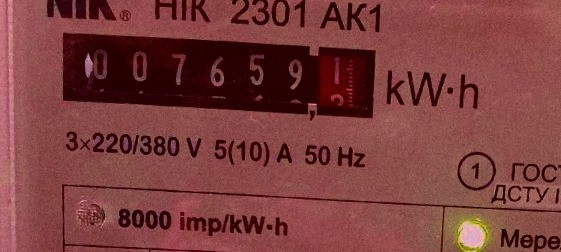0: (88, 44, 112, 84), (127, 47, 152, 85)
1: (327, 51, 346, 89)
5: (245, 50, 268, 89)
6: (205, 52, 229, 90)
7: (165, 49, 188, 88)
9: (282, 55, 306, 94)
screen: (48, 19, 387, 134)
